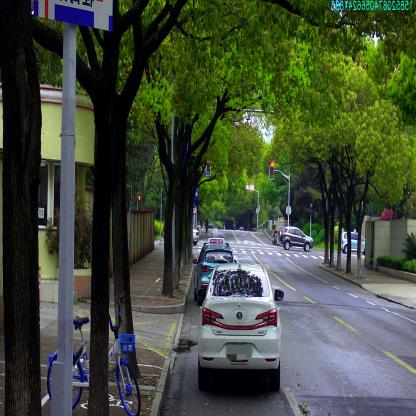traffic-light: (270, 160, 274, 179), (207, 159, 210, 176)
